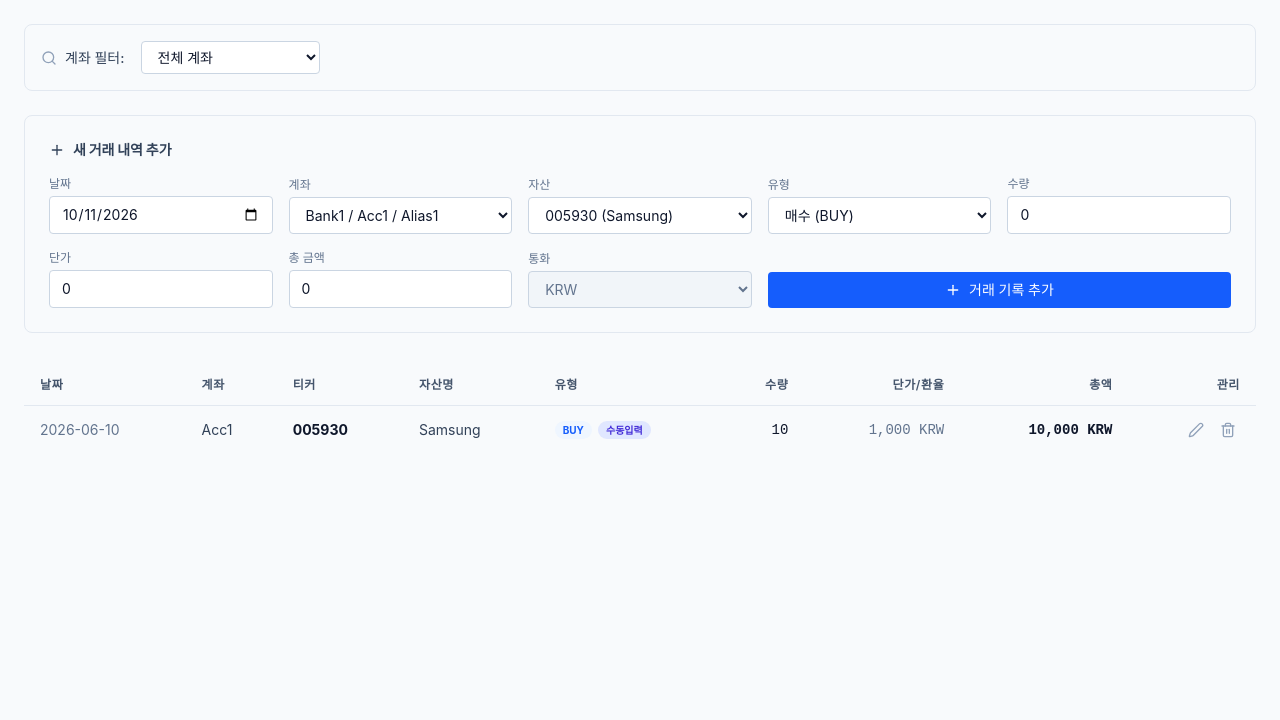
TransactionsTab › 과거 거래 삭제 시 경고 모달이 노출되고 취소 클릭 시 삭제가 수행되지 않는다
Expected: the text "2026-06-10" is shown, [24, 406, 186, 454]
Click the button titled "삭제".
click(1228, 430)  # box [1216, 418, 1240, 442]
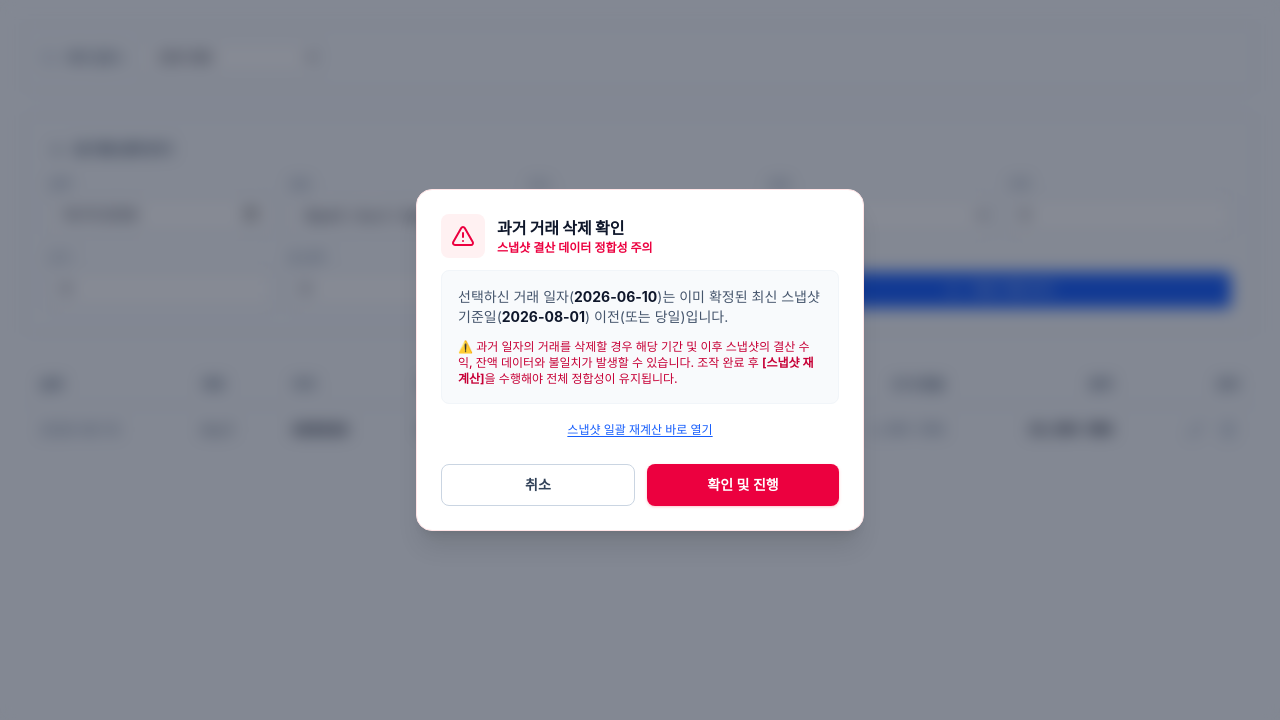
Now the element with test id "past-tx-warning-modal" is shown
Now the heading "과거 거래 삭제 확인" is shown, box [497, 217, 624, 239]
Note: 취소 버튼 클릭 시 모달이 닫히고 삭제되지 않음
Click the button with test id "past-tx-cancel-btn".
click(538, 485)  # box [441, 464, 635, 506]
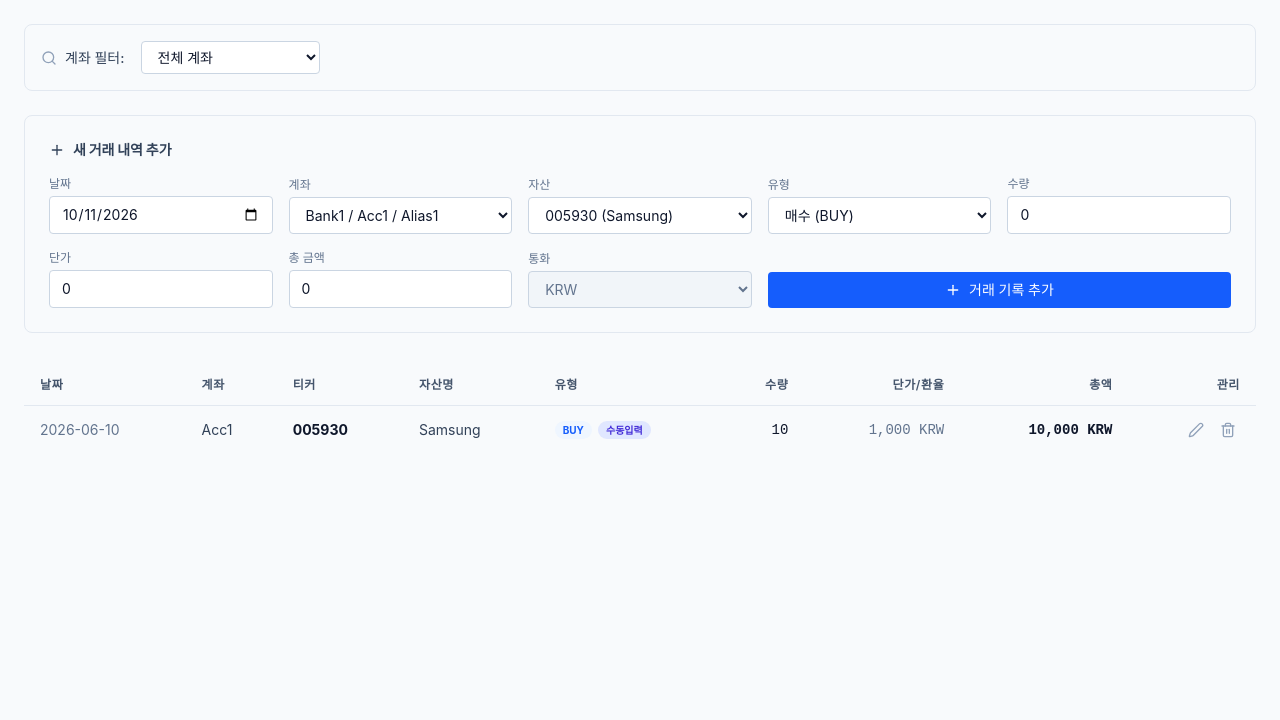
Now the element with test id "past-tx-warning-modal" is gone
